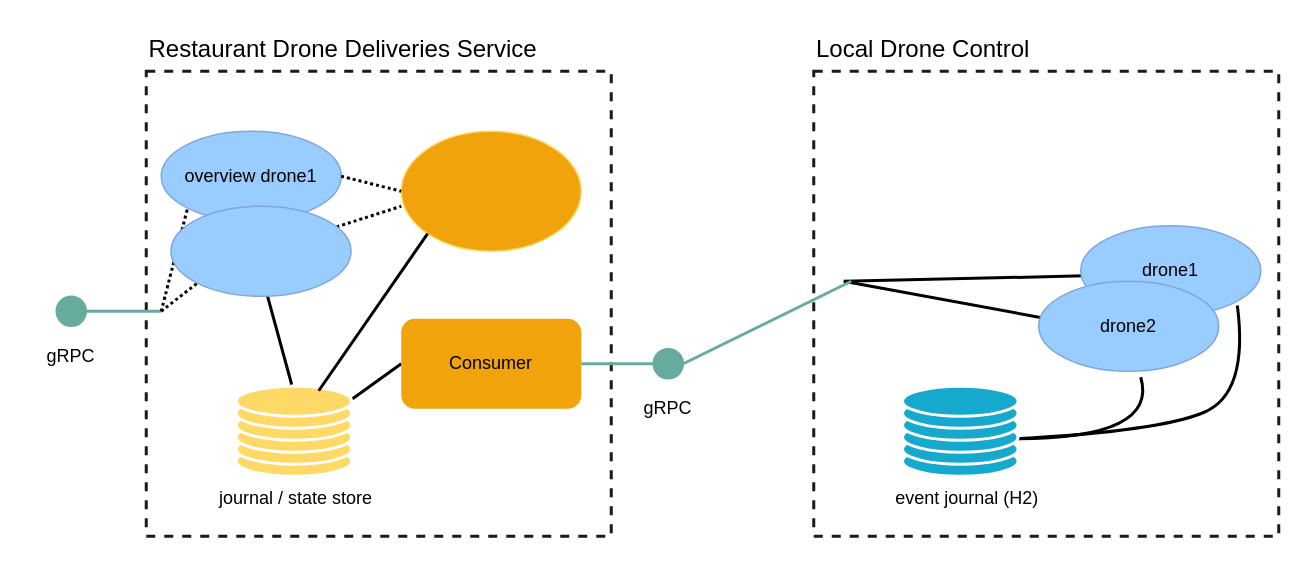
Some shapes in this 1305 by 563 pixel diagram are drawn without their labels. The centre of each missing label's shape, as x and y in pixels:
"overview drone 2" belongs at [260,250].
"Projection consuming events" belongs at [490,190].
